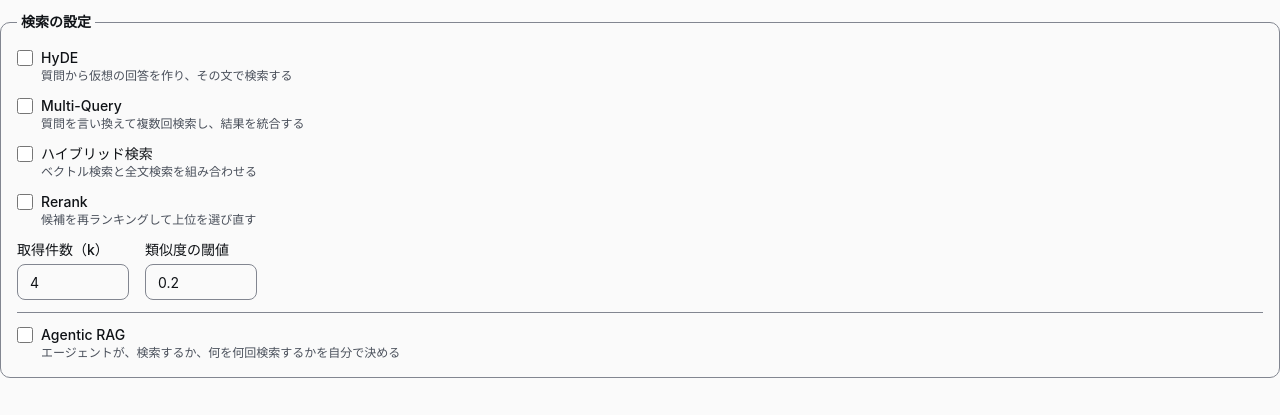
MethodSwitches numeric inputs › does not pass 1.5 as the number of results
This screenshot has width=1280, height=415.
Replace the text in the number field labelled "取得件数（k）" with "1.5": (73, 282) top-left (17, 264), bottom-right (129, 300)
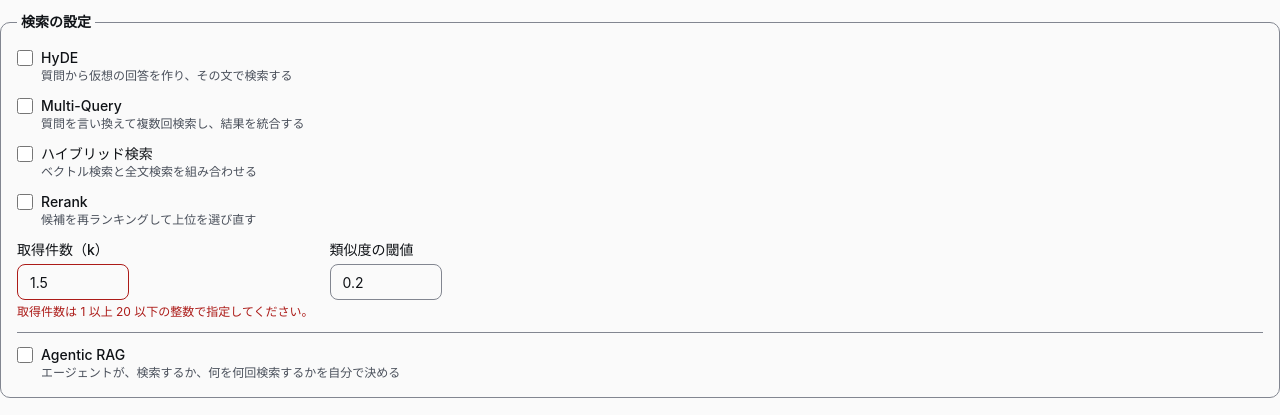
Result: the message shows "1 以上 20 以下の整数" at top-left (17, 304), bottom-right (314, 319)
